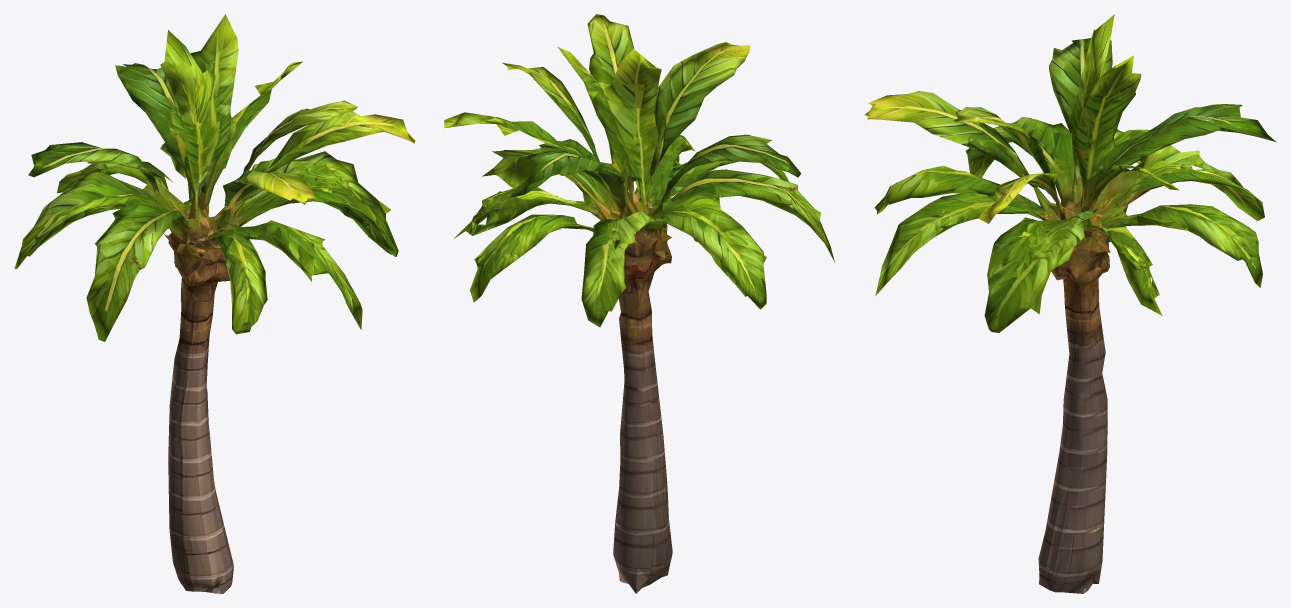
Rendered from palm.glb.
The picture shows the model from 3 angles, left to right: view 1: azimuth 30°, elevation 25°; view 2: azimuth 150°, elevation 25°; view 3: azimuth 270°, elevation 25°; orthographic projection. The views are drawn at different scales.
Parts seen in each view (by area): view 1: output_unwrapped; view 2: output_unwrapped; view 3: output_unwrapped.
Part boxes in pixels (bbox=[...]): output_unwrapped: bbox=[14, 14, 415, 593]; output_unwrapped: bbox=[444, 14, 835, 593]; output_unwrapped: bbox=[864, 14, 1276, 593].
Size of the model in its own units: 7.76 by 12 by 7.91.
Materials: 1 (1 with a texture image).
